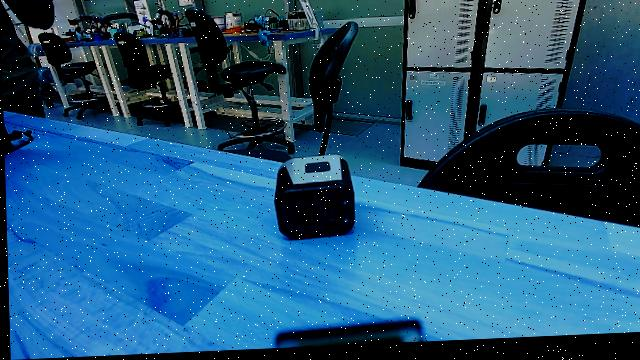adapter: (271, 152, 360, 248)
